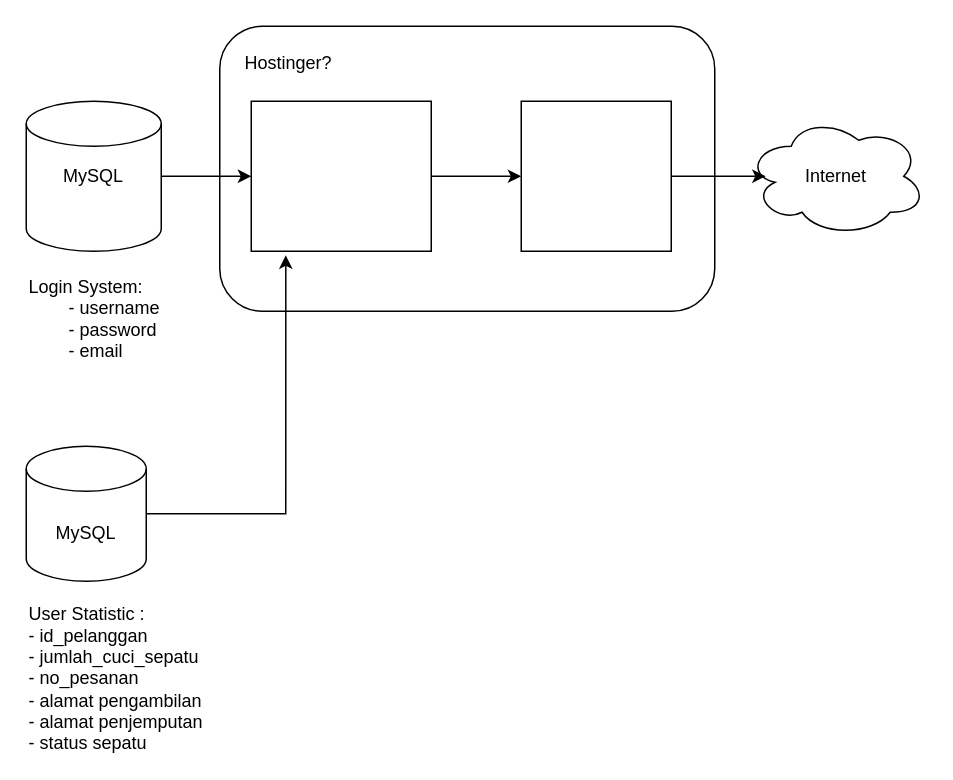
The diagram is 953 pixels wide and 780 high, and some of its shapes have lost their labels. The centre of each missing label's shape, as x and y in pixels:
"Frontend" belongs at [595,175].
"Node js + Express (Backend API)" belongs at [340,175].
